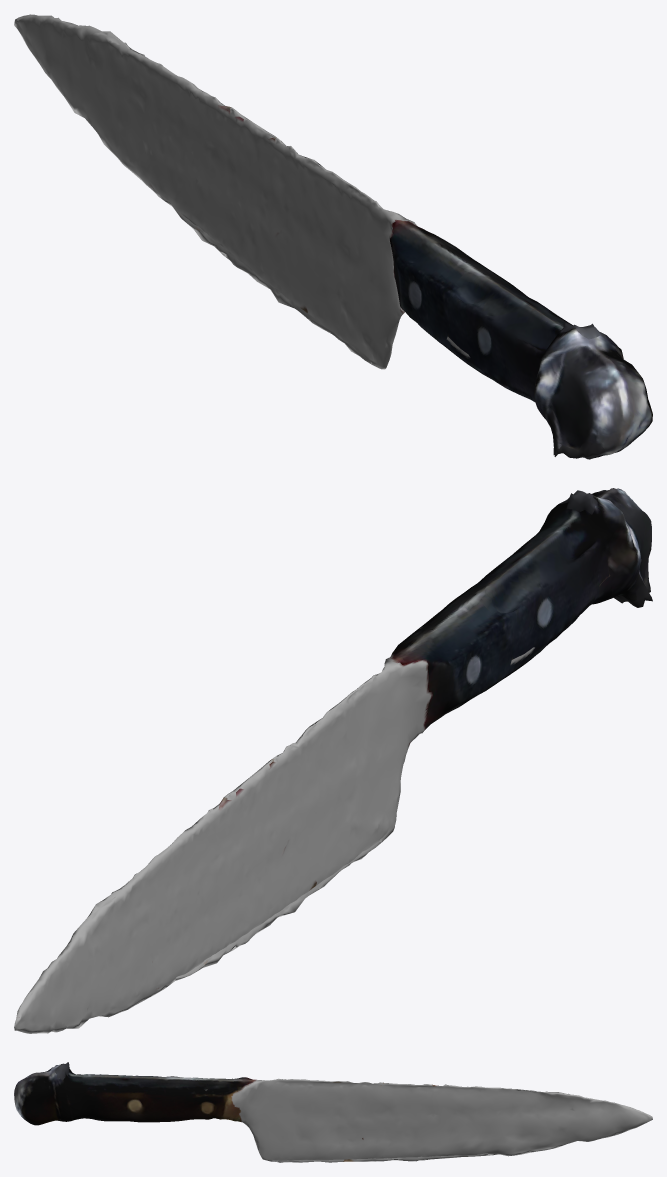
3 renders of one model, top to bottom at view 1: azimuth 30°, elevation 25°; view 2: azimuth 150°, elevation 25°; view 3: azimuth 270°, elevation 25°, orthographic. The views are drawn at different scales.
Visible parts, largest first — view 1: mmGroup0; view 2: mmGroup0; view 3: mmGroup0.
Boxes of the visible parts, x1,y1,x2,y2 form: mmGroup0: (14, 14, 652, 459); mmGroup0: (14, 488, 652, 1033); mmGroup0: (14, 1062, 652, 1162).
Bounding box in the file's own units: 0.0279 × 0.0568 × 0.33.
Materials: 2 (2 with a texture image).
